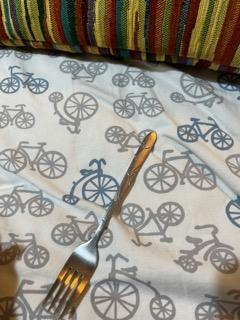fork: (39, 131, 158, 320)
